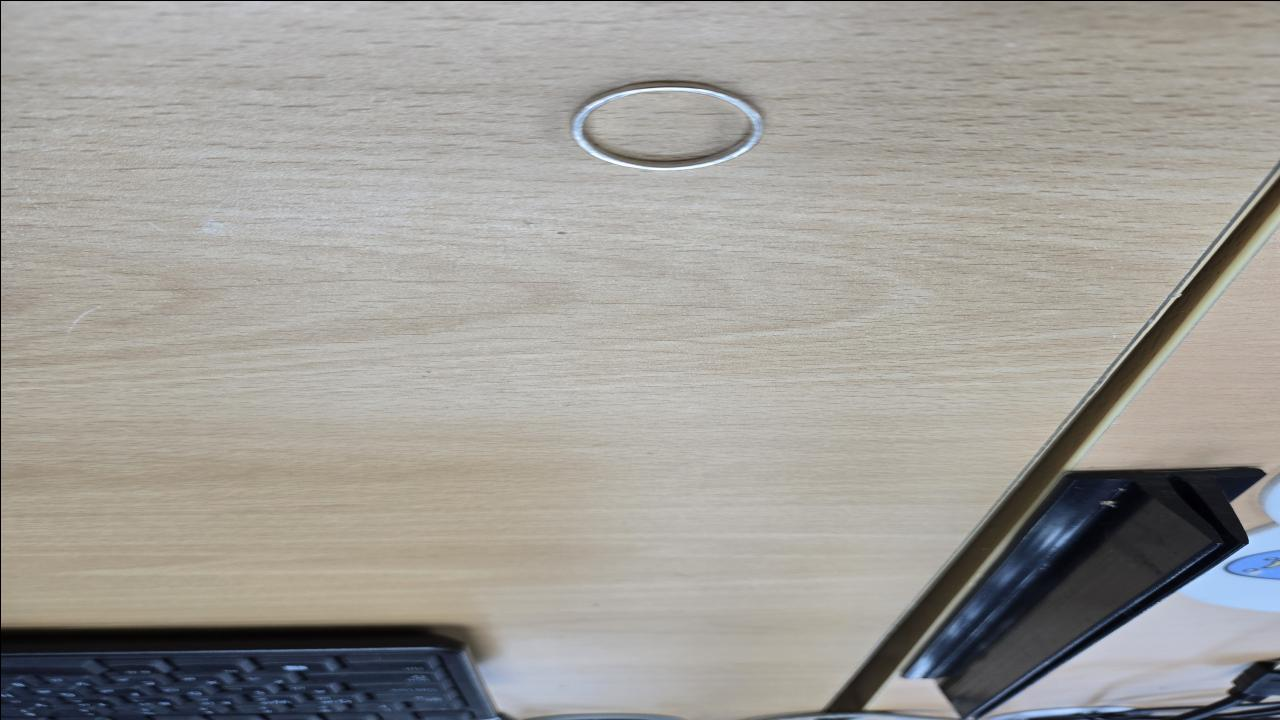ring: (568, 80, 766, 170)
